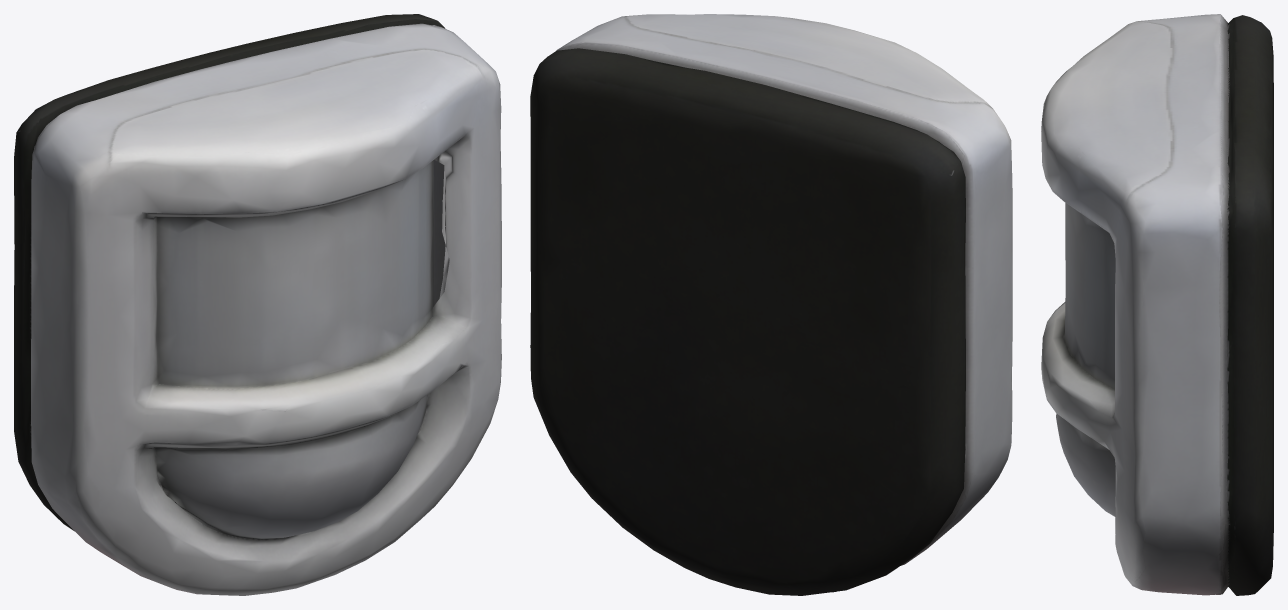
Rendered from holodeck_MotionSensor.glb.
3 renders of one model, left to right at view 1: azimuth 30°, elevation 25°; view 2: azimuth 150°, elevation 25°; view 3: azimuth 270°, elevation 25°, orthographic. The views are drawn at different scales.
Parts seen in each view (by area): view 1: world; view 2: world; view 3: world.
Boxes of the visible parts, x1=… form: world: x1=14, y1=14, x2=501, y2=595; world: x1=530, y1=14, x2=1012, y2=595; world: x1=1041, y1=14, x2=1273, y2=595.
Bounding box in the file's own units: 0.8894 × 0.9995 × 0.4384.
1 material, 1 textured.
